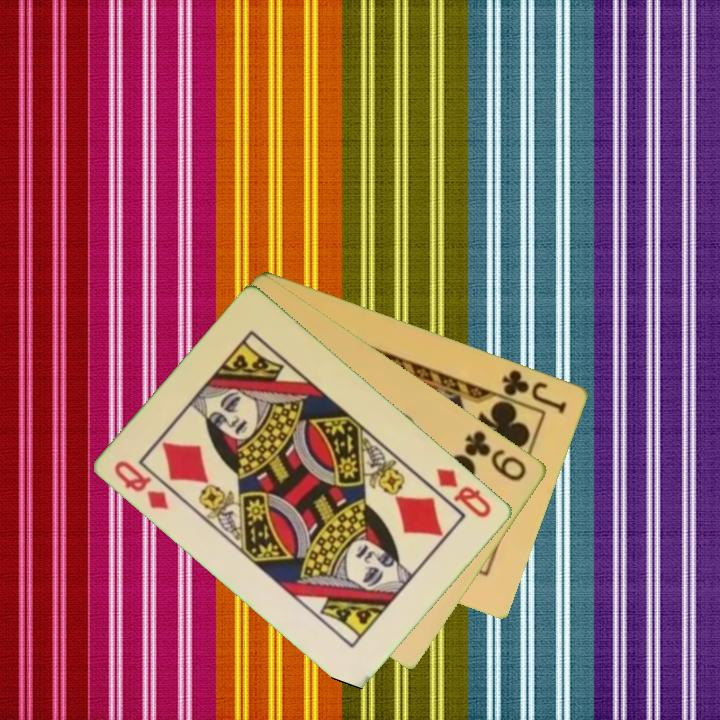9c: (461, 427, 531, 484)
Jc: (499, 366, 570, 416)
Qd: (433, 464, 495, 521), (111, 456, 172, 513)
